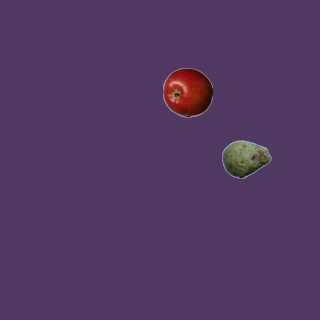Apple Braeburn: (162, 67, 212, 117)
Pear Stone: (221, 134, 271, 184)
